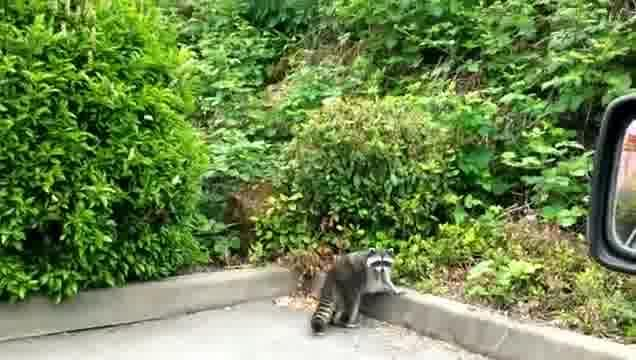raccoon: (313, 247, 403, 334)
